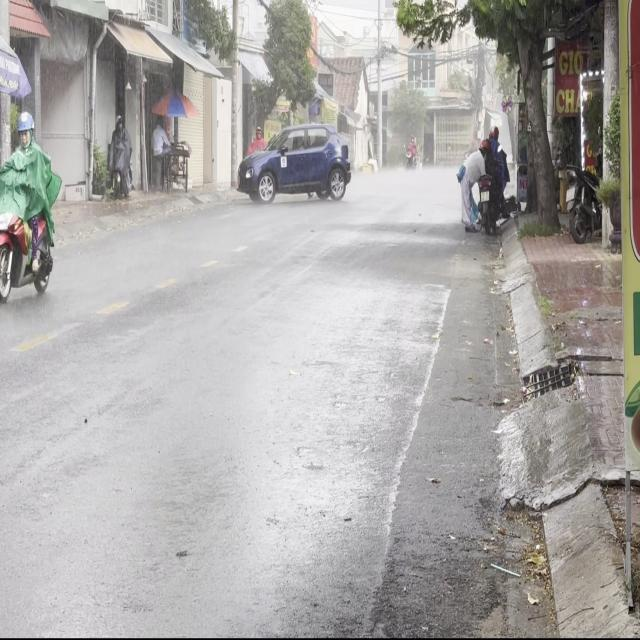helmet: (16, 110, 34, 144)
licenseplate: (0, 108, 61, 306)
